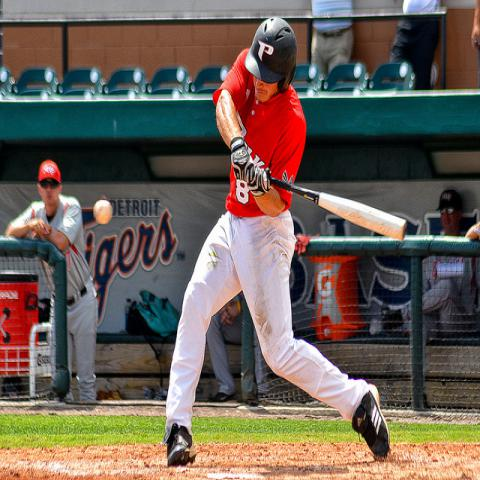car: (366, 60, 420, 94), (102, 68, 145, 99)
